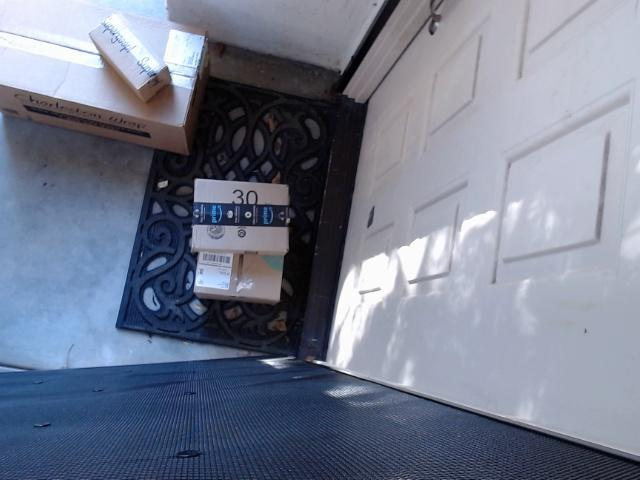box: (0, 0, 246, 141), (185, 166, 303, 325), (148, 179, 315, 258), (69, 5, 179, 118)
